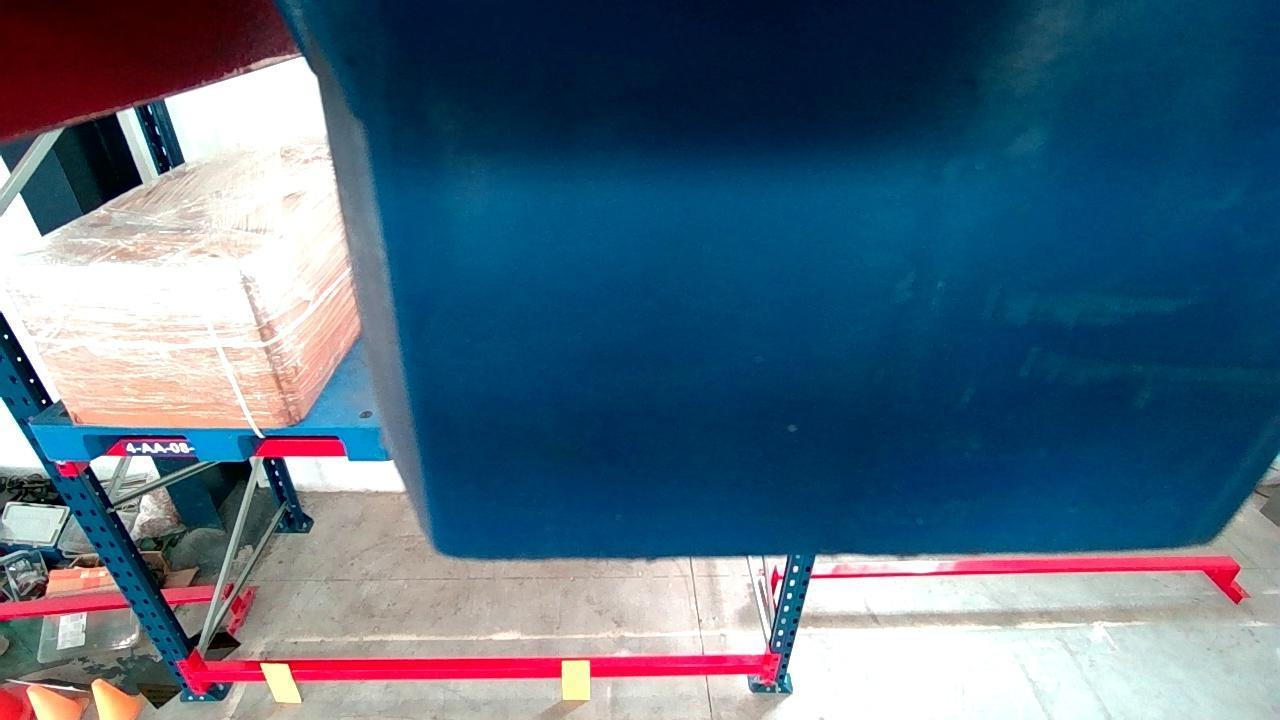h_rack: (189, 659, 762, 683), (113, 437, 386, 453)
orange_strip: (260, 662, 302, 703), (561, 660, 588, 699)
small_pallet: (31, 421, 383, 463)
